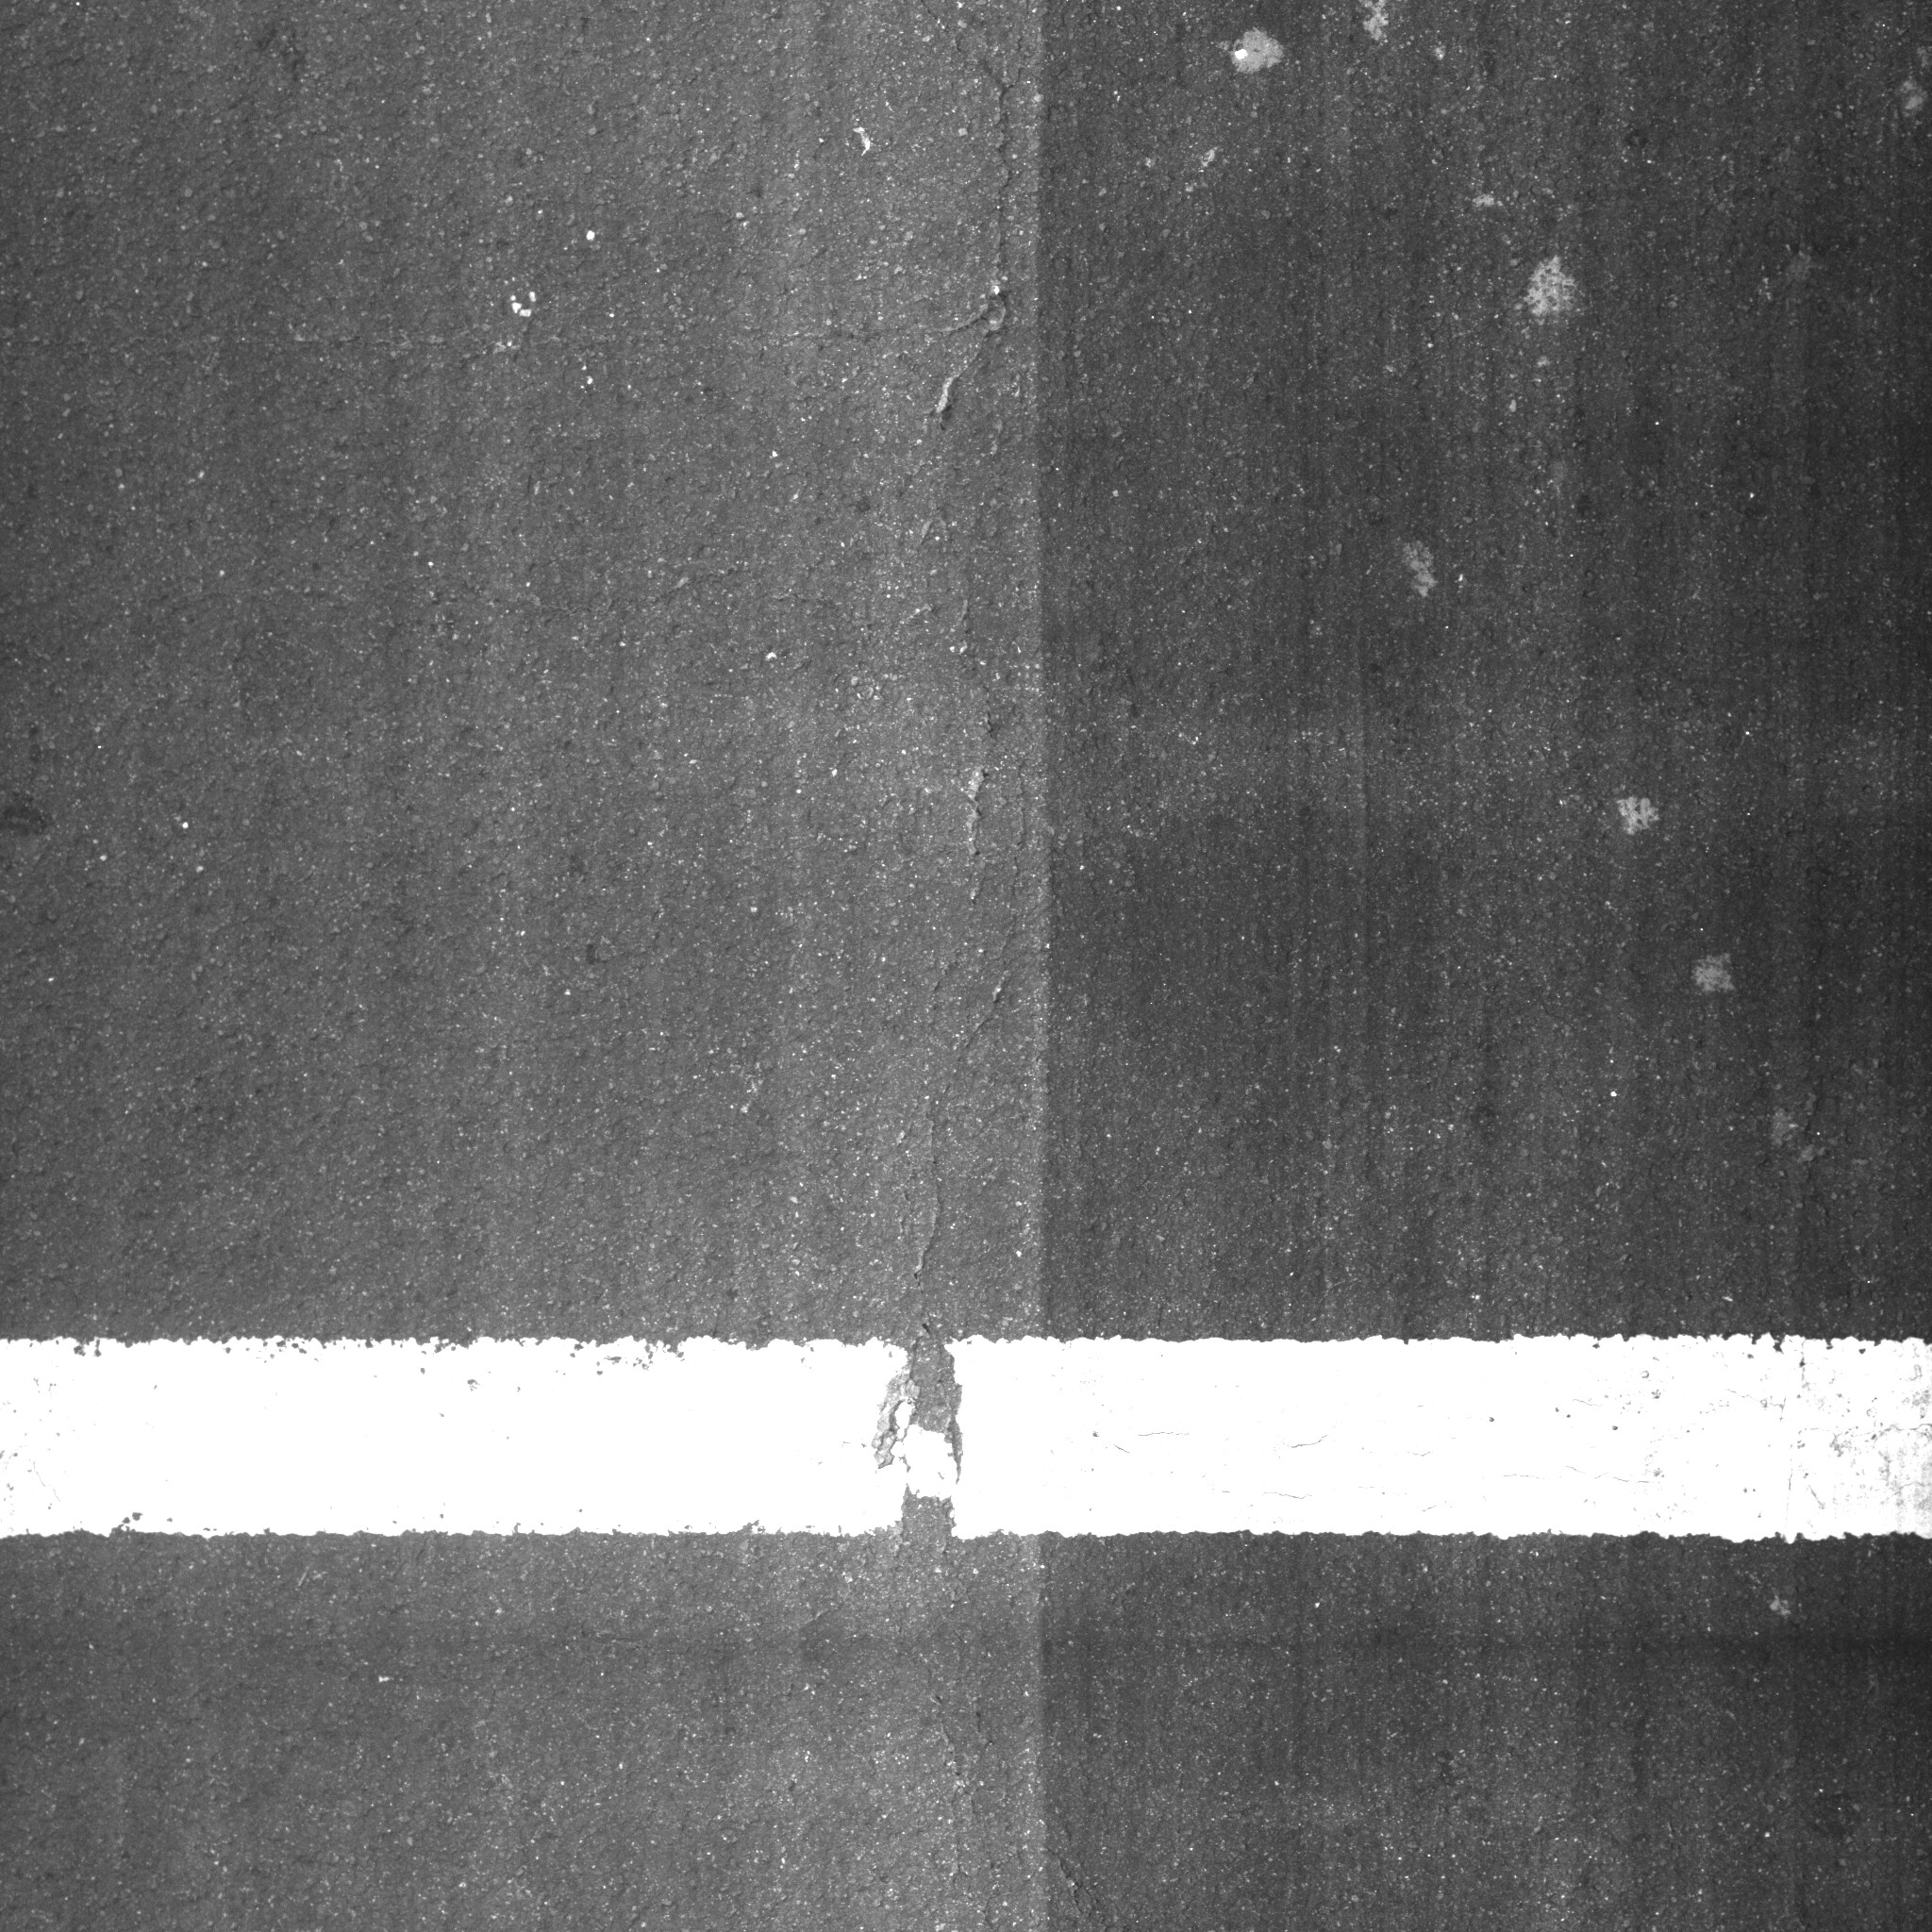longitudinal: (893, 11, 1026, 1914)
